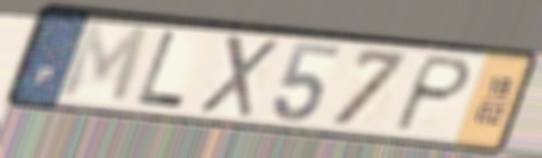5: (270, 39, 344, 125)
7: (328, 46, 411, 130)
L: (133, 28, 188, 111)
M: (56, 19, 153, 107)
P: (388, 53, 476, 135)
X: (195, 31, 282, 121)
